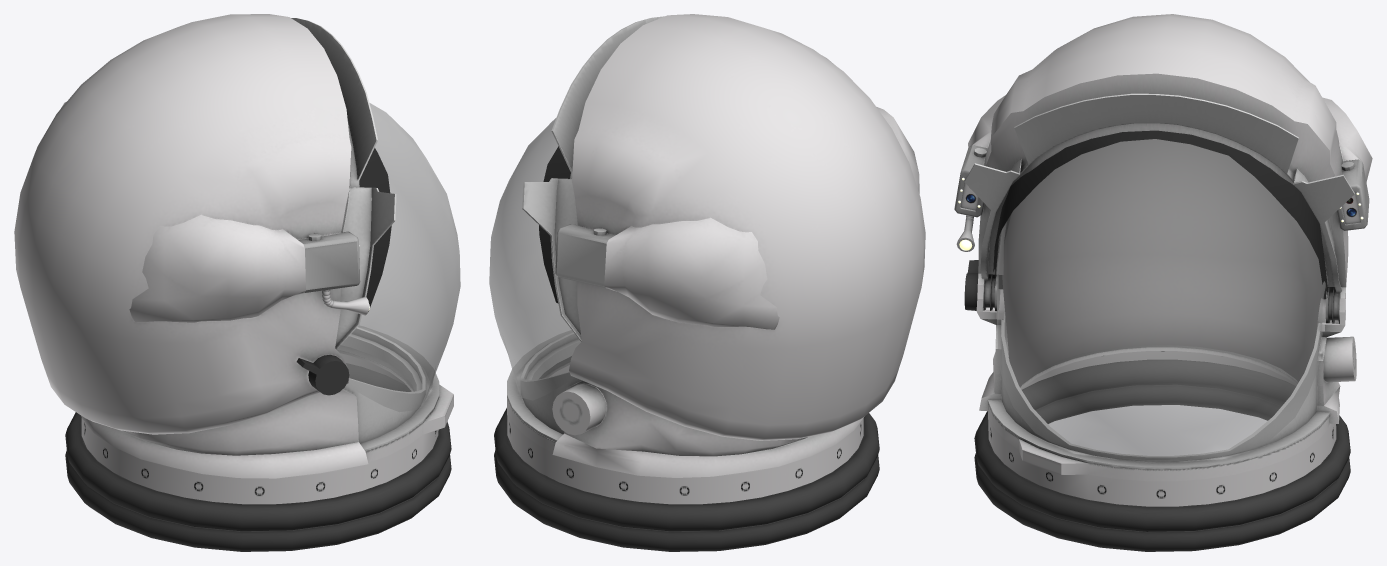
File: helm.glb
3 views of the same model, side by side, from view 1: azimuth 30°, elevation 25°; view 2: azimuth 150°, elevation 25°; view 3: azimuth 270°, elevation 25° (orthographic). The views are drawn at different scales.
Visible parts, largest first — view 1: Helmet-Body, Black-one_Standard_14_0; view 2: Helmet-Body, Black-one_Standard_14_0; view 3: Helmet-Body, Black-one_Standard_14_0.
Boxes of the visible parts, box(x1,y1,x2,y2) form: Helmet-Body: box(14, 14, 460, 551); Black-one_Standard_14_0: box(359, 148, 391, 311); Helmet-Body: box(489, 14, 925, 551); Black-one_Standard_14_0: box(539, 146, 570, 303); Helmet-Body: box(954, 14, 1372, 551); Black-one_Standard_14_0: box(993, 130, 1328, 297).
Size of the model in its own units: 3.11 by 3.36 by 2.94.
Materials: 3 (2 with a texture image).
